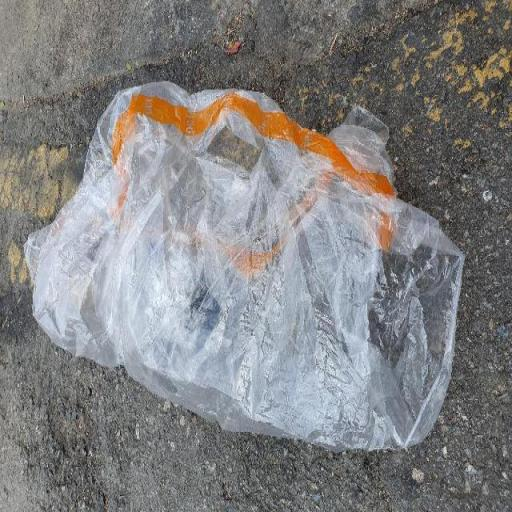plastic-bag: (22, 78, 464, 456)
